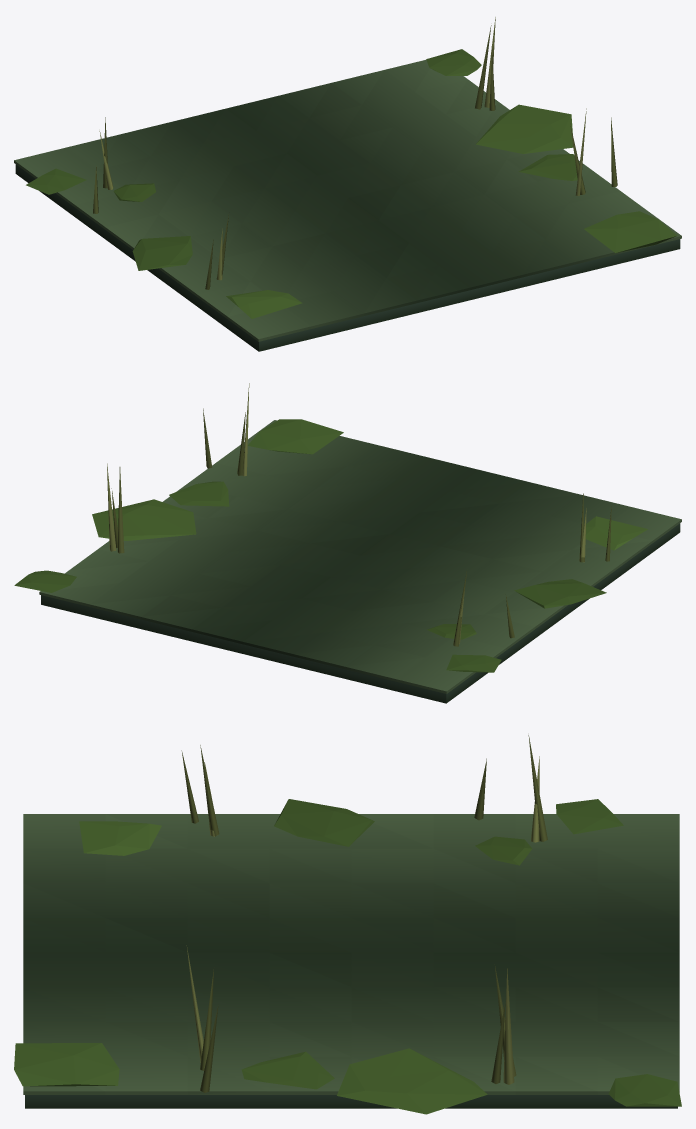
File: water-open-channel-bayou.glb
The picture shows the model from 3 angles, top to bottom: view 1: azimuth 30°, elevation 25°; view 2: azimuth 150°, elevation 25°; view 3: azimuth 270°, elevation 25°; orthographic projection. The views are drawn at different scales.
Visible parts, largest first — view 1: water_open_channel_bayou; view 2: water_open_channel_bayou; view 3: water_open_channel_bayou.
Boxes of the visible parts, <box> form: water_open_channel_bayou: <box>14,17,681,351</box>; water_open_channel_bayou: <box>14,383,681,703</box>; water_open_channel_bayou: <box>14,735,681,1114</box>.
Size of the model in its own units: 4.57 by 0.9682 by 4.07.
